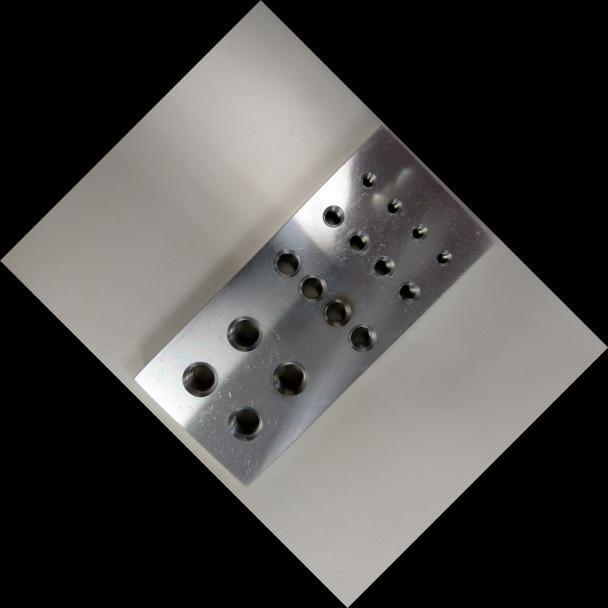hole: (264, 352, 316, 404), (173, 353, 225, 405), (218, 307, 270, 359), (220, 398, 271, 448), (265, 242, 308, 284), (291, 267, 333, 309), (316, 292, 358, 333), (341, 317, 382, 358), (365, 250, 400, 285), (341, 225, 375, 259), (391, 276, 425, 309), (316, 199, 349, 232), (405, 219, 431, 245), (381, 194, 406, 219), (355, 168, 380, 193), (431, 245, 455, 270)
